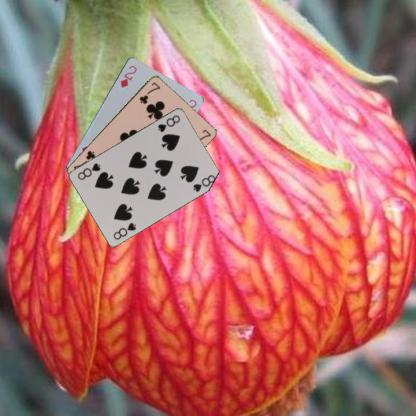2d: (118, 63, 138, 89)
7c: (136, 79, 162, 105)
8s: (111, 219, 137, 241), (155, 112, 181, 133)
